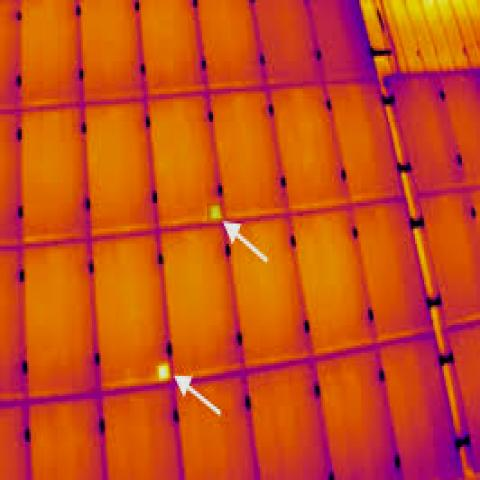fault: (157, 363, 170, 384), (207, 203, 222, 221)
